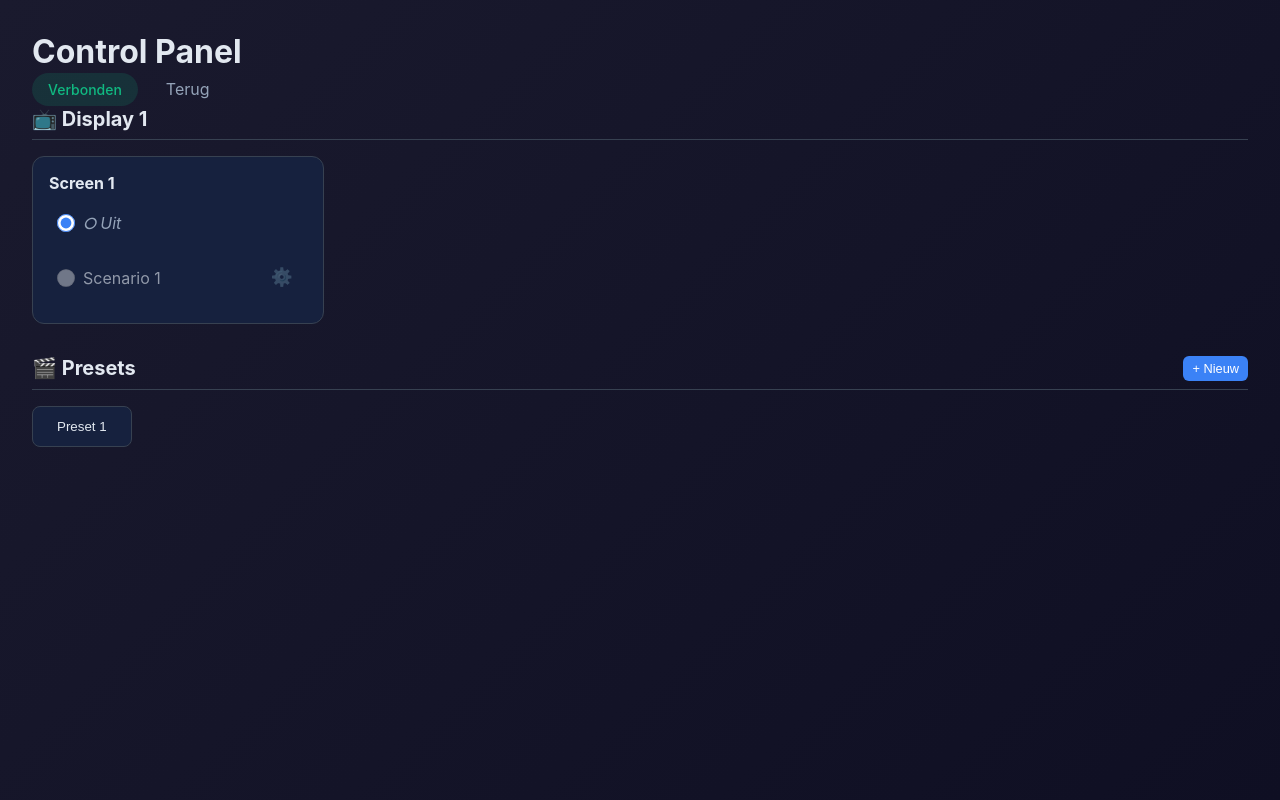
Test: Control page › scenario selection › opens settings modal on settings click
Click the button titled "Instellingen": (282, 278) [264,261,299,295]
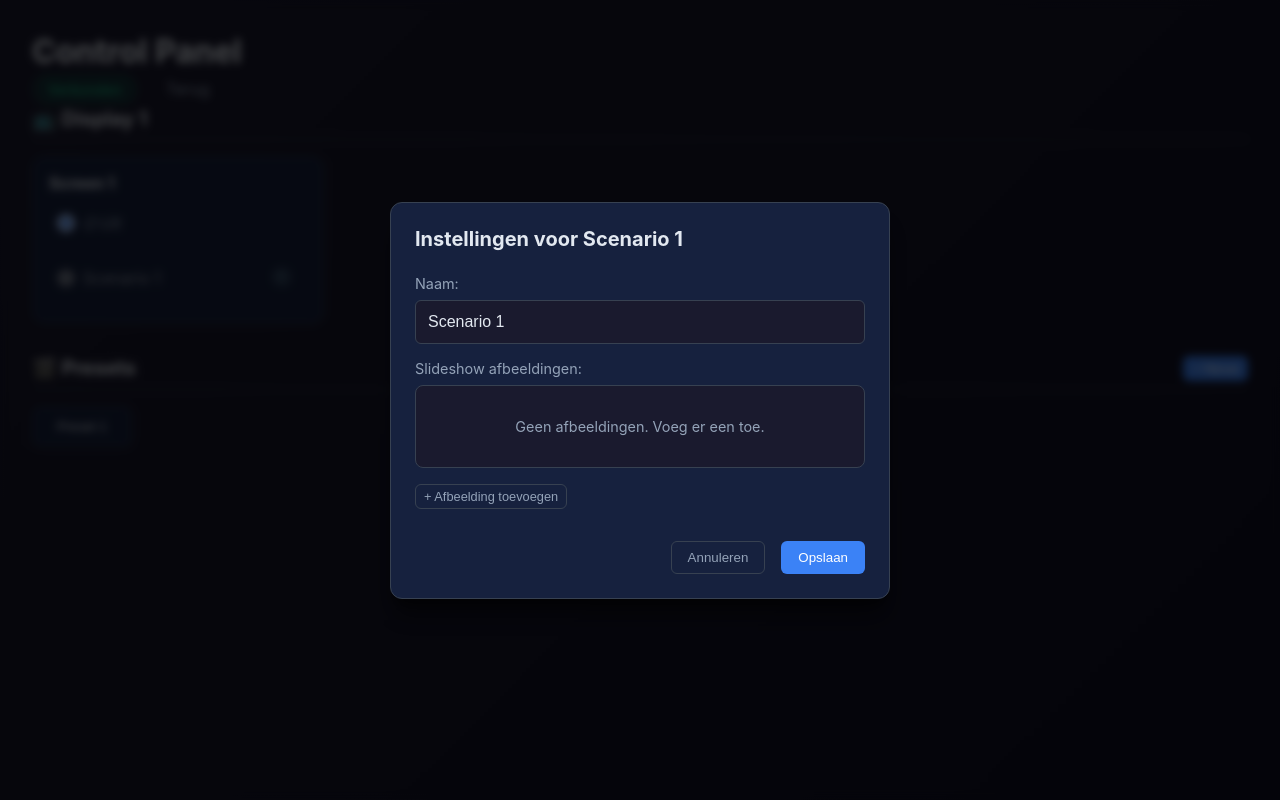
Now the heading "Instellingen voor Scenario 1" is shown, box [415,226,683,250]
